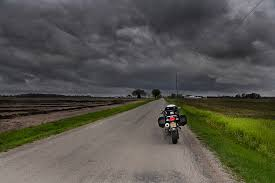motorcycle: (156, 103, 189, 144)
